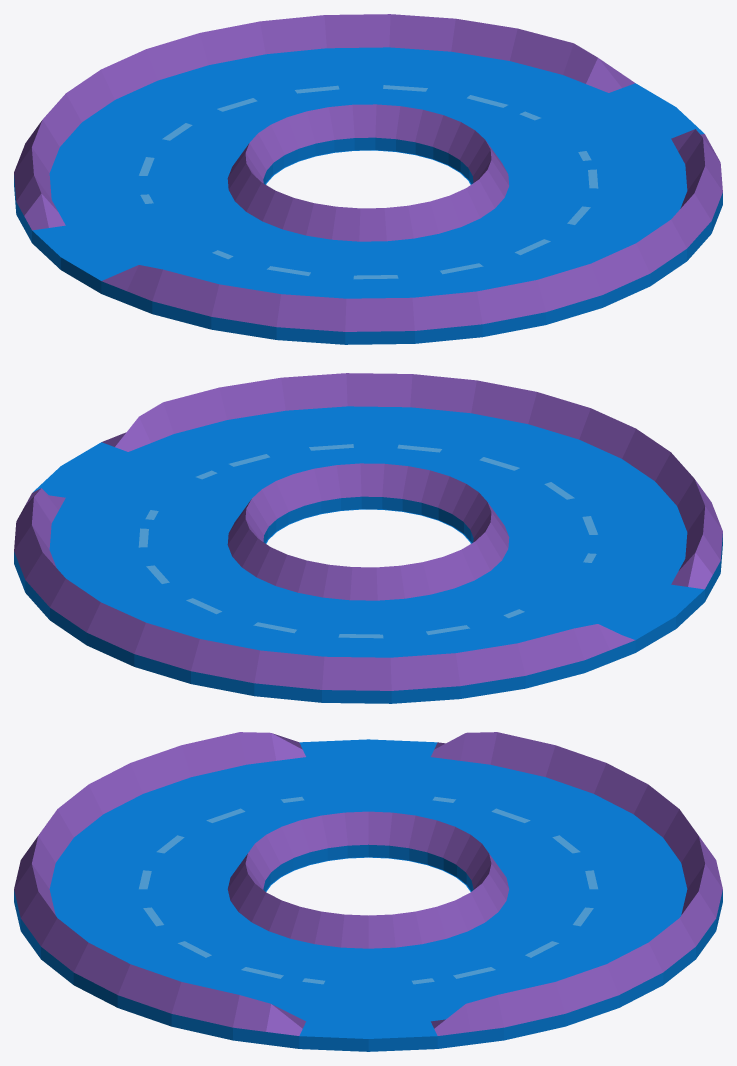
The model's file is plateforme 1.fbx.
The picture shows the model from 3 angles, top to bottom: view 1: azimuth 30°, elevation 25°; view 2: azimuth 150°, elevation 25°; view 3: azimuth 270°, elevation 25°; orthographic projection.
Parts seen in each view (by area): view 1: Cylindre.002; view 2: Cylindre.002; view 3: Cylindre.002.
Boxes of the visible parts, x1,y1,x2,y2 form: Cylindre.002: (14,14,722,344); Cylindre.002: (14,373,722,703); Cylindre.002: (14,732,722,1051).
Size of the model in its own units: 2000 by 120 by 2000.
